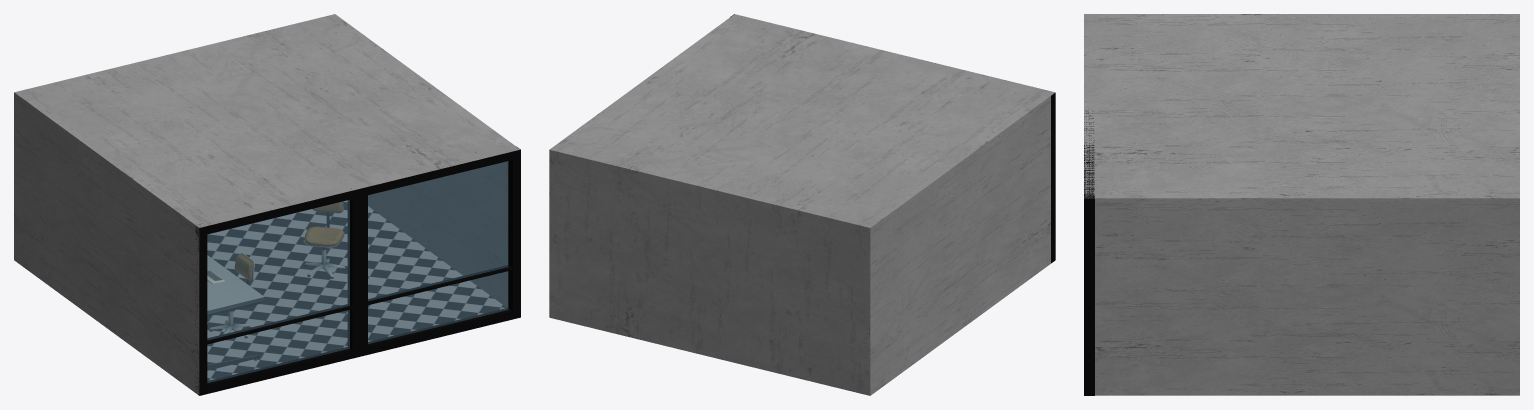
Rendered from window.glb.
3 renders of one model, left to right at view 1: azimuth 30°, elevation 25°; view 2: azimuth 150°, elevation 25°; view 3: azimuth 270°, elevation 25°, orthographic. The views are drawn at different scales.
Visible parts, largest first — view 1: Plane, room_light, vidro.001, vidro, Cube.005, lab_desk01, lab_chair.001, lab_chair; view 2: Plane, room_light, Cube.005; view 3: Plane, room_light, Cube.005.
Part boxes in pixels (x1,y1,x2,y2): Plane: (14,92,508,395); room_light: (14,14,519,227); vidro.001: (207,200,349,382); vidro: (368,161,508,343); Cube.005: (195,146,520,395); lab_desk01: (207,255,265,370); lab_chair.001: (303,201,345,278); lab_chair: (209,253,254,338); Plane: (549,96,1050,395); room_light: (549,14,1055,227); Cube.005: (730,14,1055,263); Plane: (1095,198,1519,395); room_light: (1084,14,1519,198); Cube.005: (1084,110,1094,395).
Size of what is drawn, in the model's own units: 4 by 2.01 by 4.
Materials: 9 (8 with a texture image).
